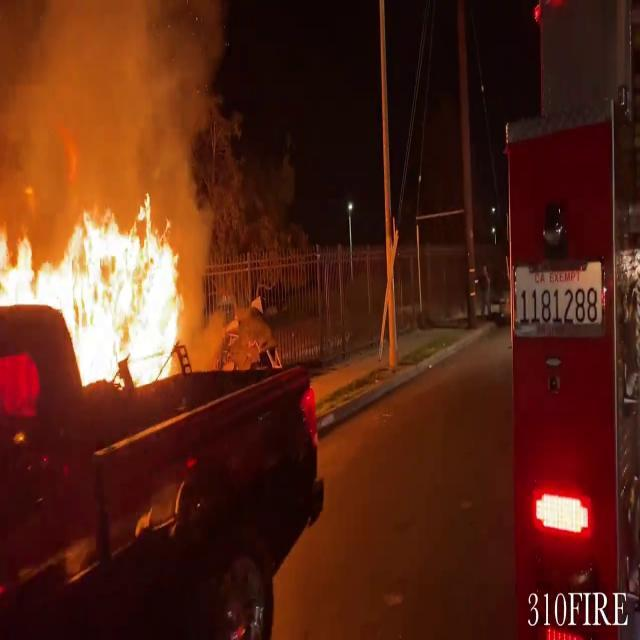Fire: (0, 188, 198, 384)
Smoke: (0, 0, 228, 189)
